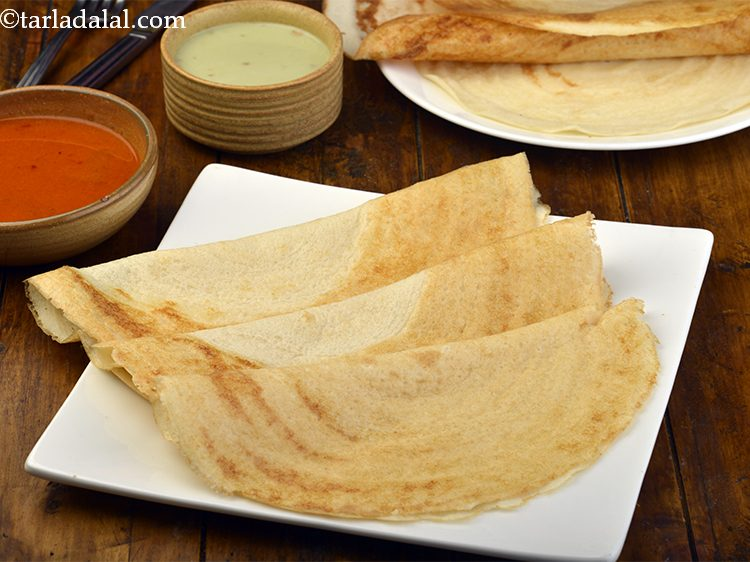dosa: (16, 153, 669, 520)
